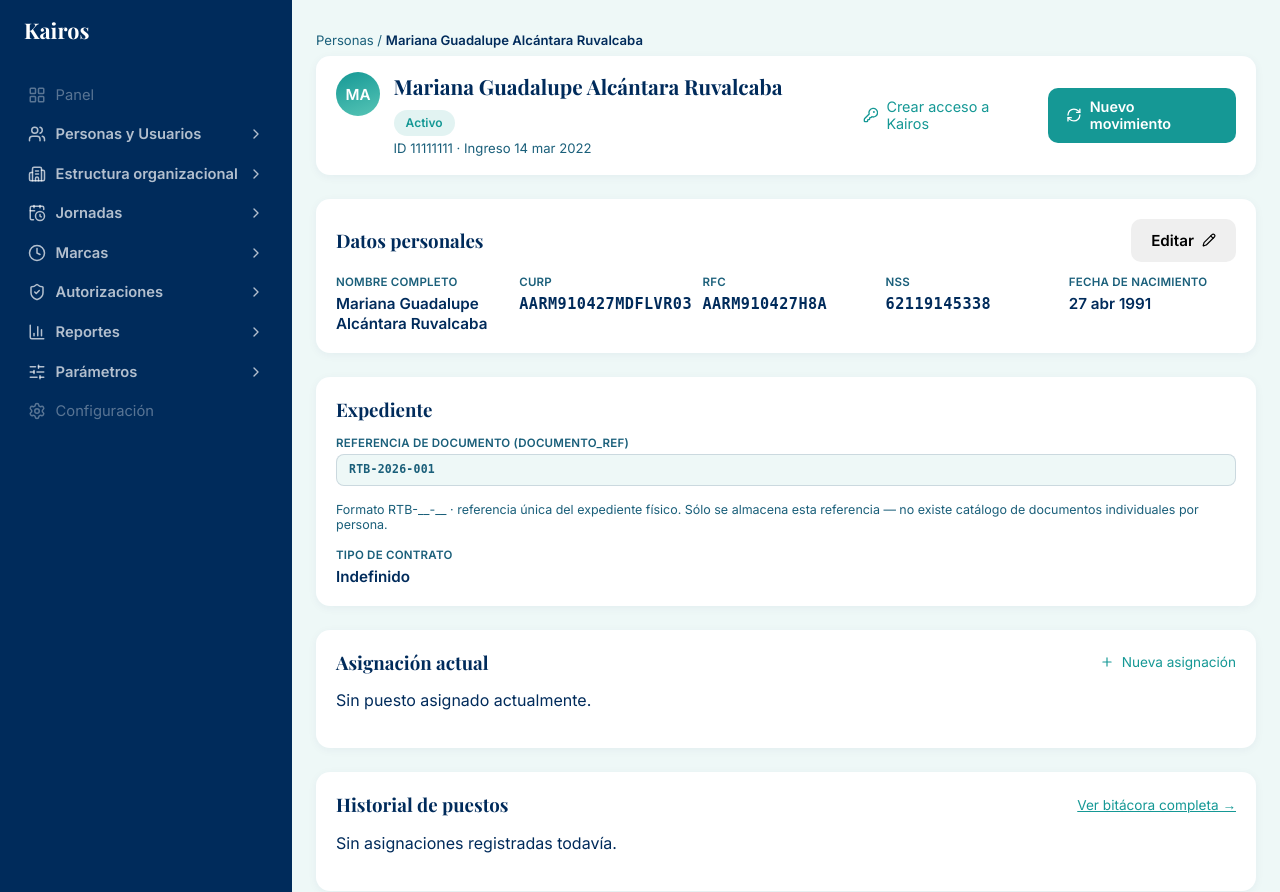
it: FichaPersonaPage › edición in-place de Datos personales/Expediente › 403 al guardar muestra 'No tenés permiso para editar esta persona.' y mantiene el formulario abierto
The image size is (1280, 892).
Expected: the 1st text "Mariana Guadalupe Alcántara Ruvalcaba" is shown, [386,32,643,48]
Click the button "Editar" at x=1184, y=240, box [1131,219,1236,262]
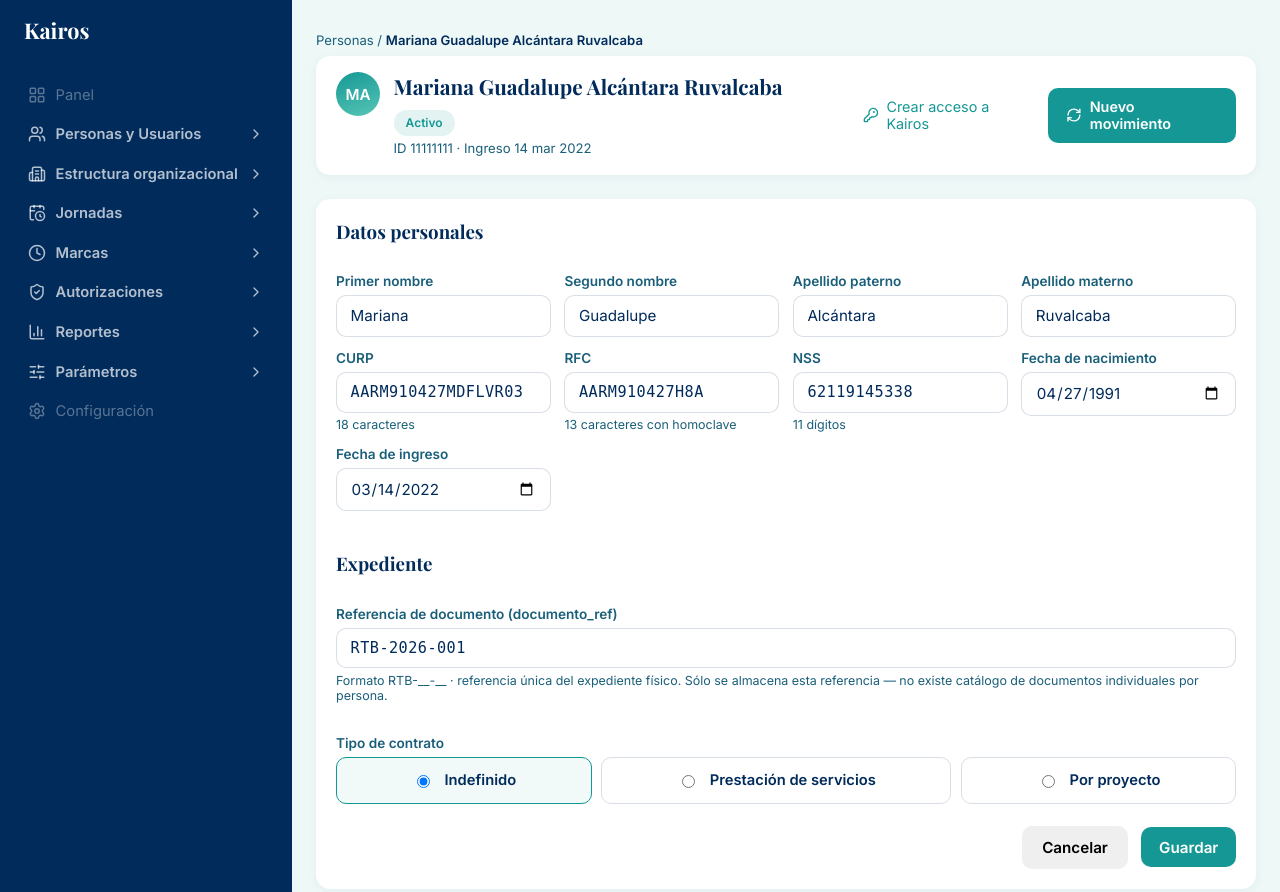
Replace the text in the field labelled "Primer nombre" with "Marianela" at x=443, y=316, box [336,295,551,337]
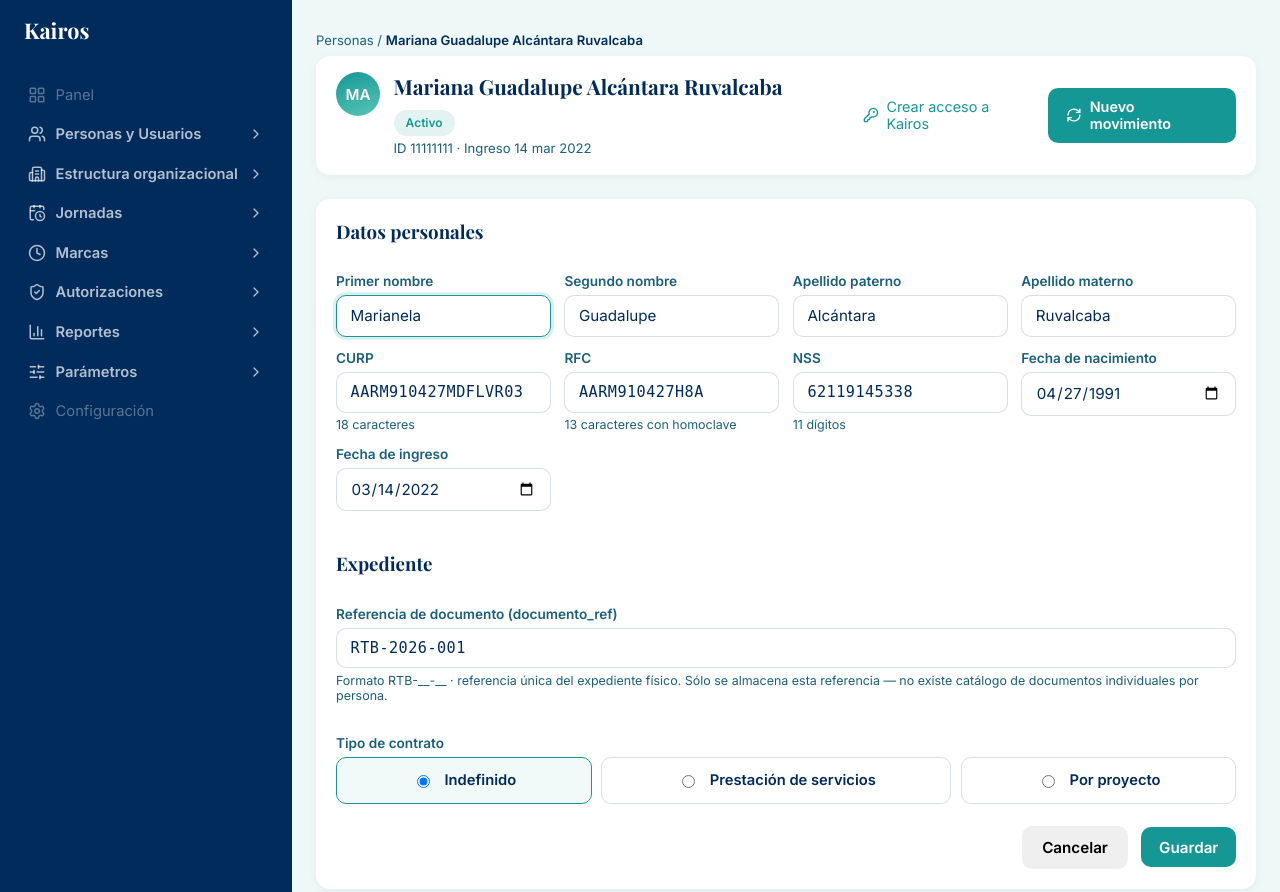
Click the button "Guardar" at x=1189, y=847, box [1142,827,1236,867]
(page scrolled)
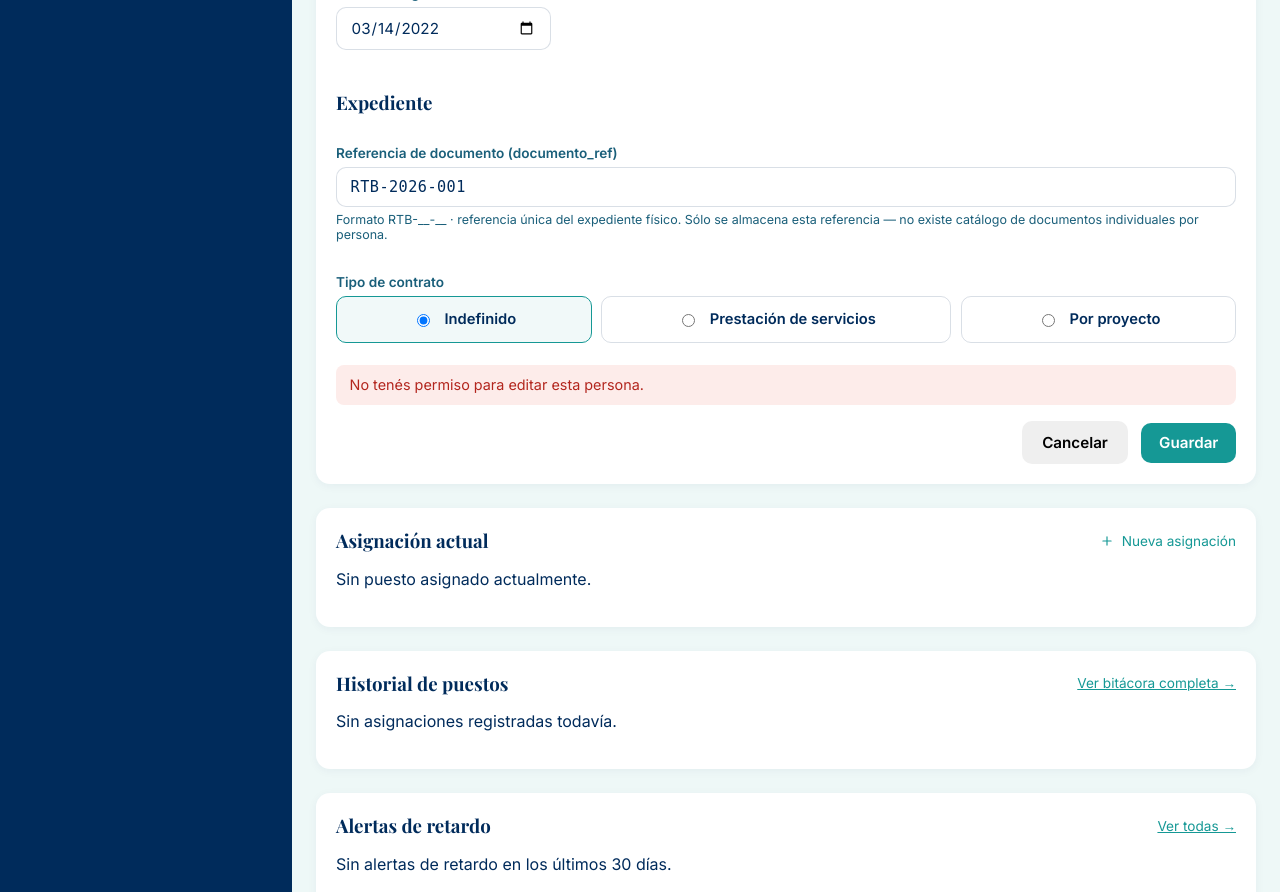
Expected: the button "Guardar" is shown, [1142,423,1236,463]
Expected: the text "No tenés permiso para editar esta persona." is shown, [336,364,1236,405]
